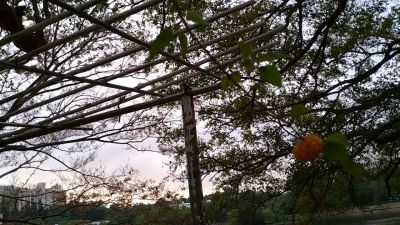eggs: (295, 133, 324, 163)
